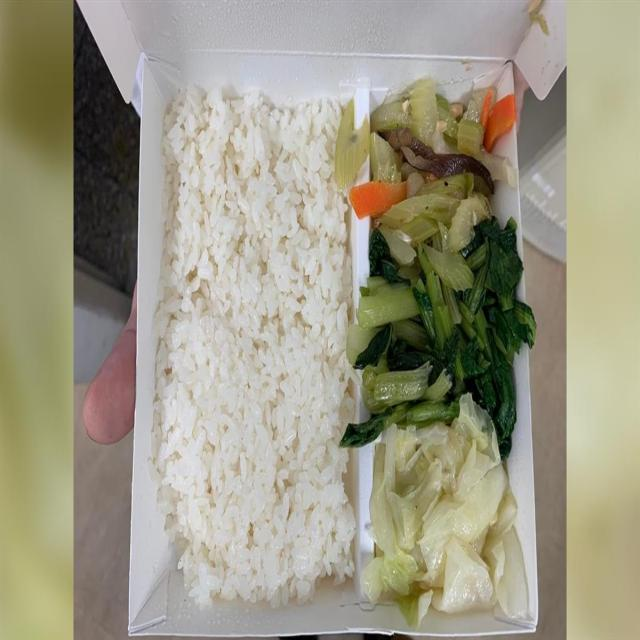Fushan-lettuce: (368, 268, 514, 407)
cabbage: (378, 448, 516, 611)
rice: (175, 85, 347, 576)
